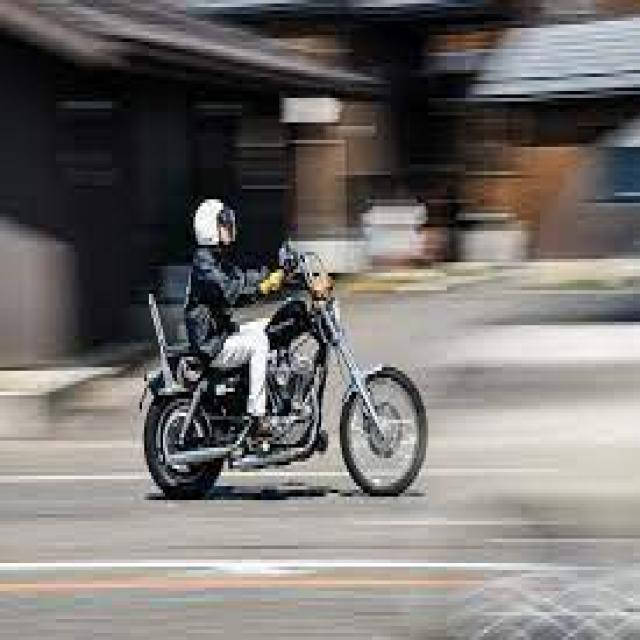Bike: (140, 256, 429, 501)
